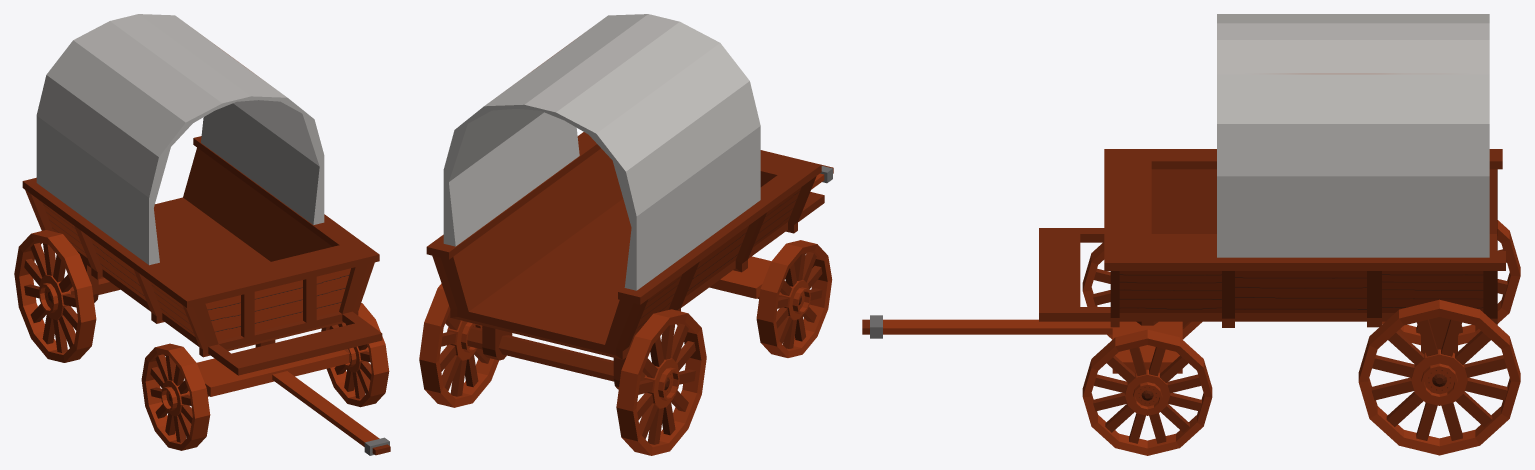
File: Wagon.fbx
3 renders of one model, left to right at view 1: azimuth 30°, elevation 25°; view 2: azimuth 150°, elevation 25°; view 3: azimuth 270°, elevation 25°, orthographic. The views are drawn at different scales.
Parts seen in each view (by area): view 1: Torus; view 2: Torus; view 3: Torus.
Part boxes in pixels (x1=…): Torus: x1=14, y1=14, x2=390, y2=455; Torus: x1=419, y1=14, x2=833, y2=455; Torus: x1=862, y1=14, x2=1520, y2=455.
Bounding box in the file's own units: 660 × 971 × 1578.
